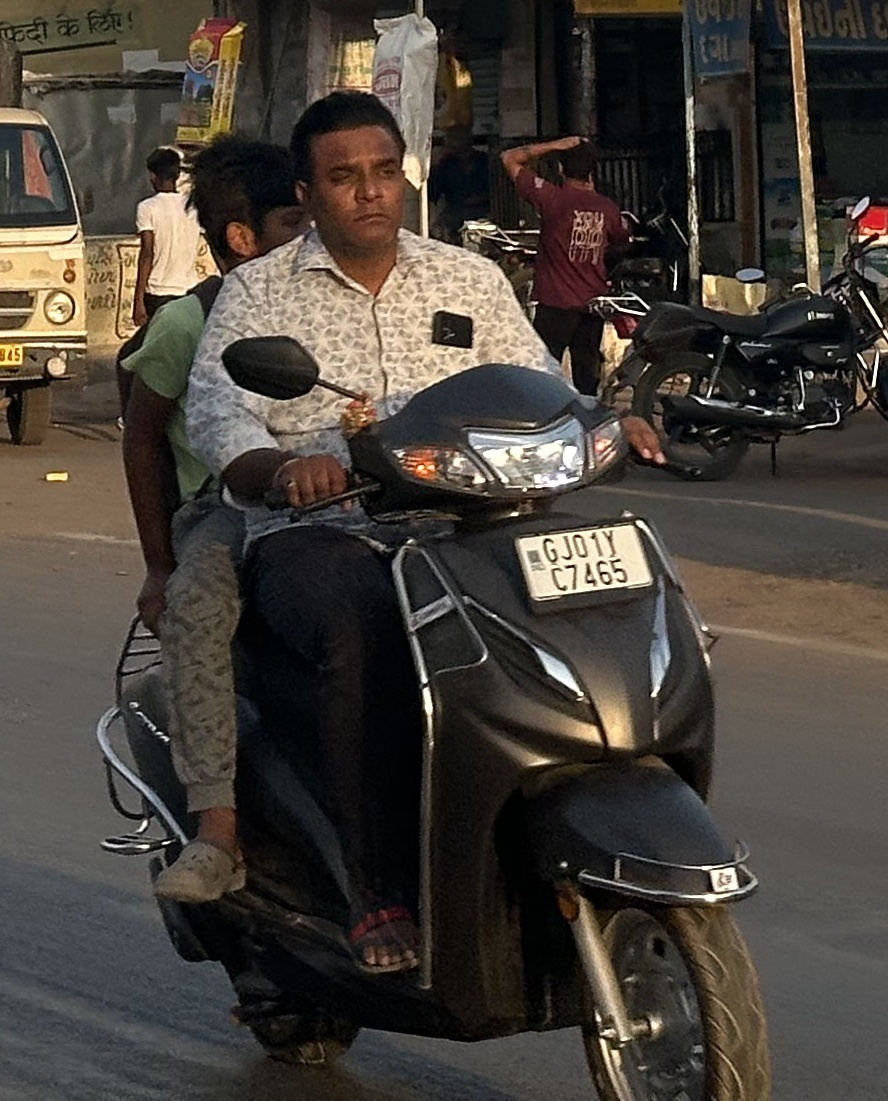BikeWithRider: (81, 78, 786, 1098)
NoHelmet: (278, 84, 425, 256), (175, 126, 320, 286)
